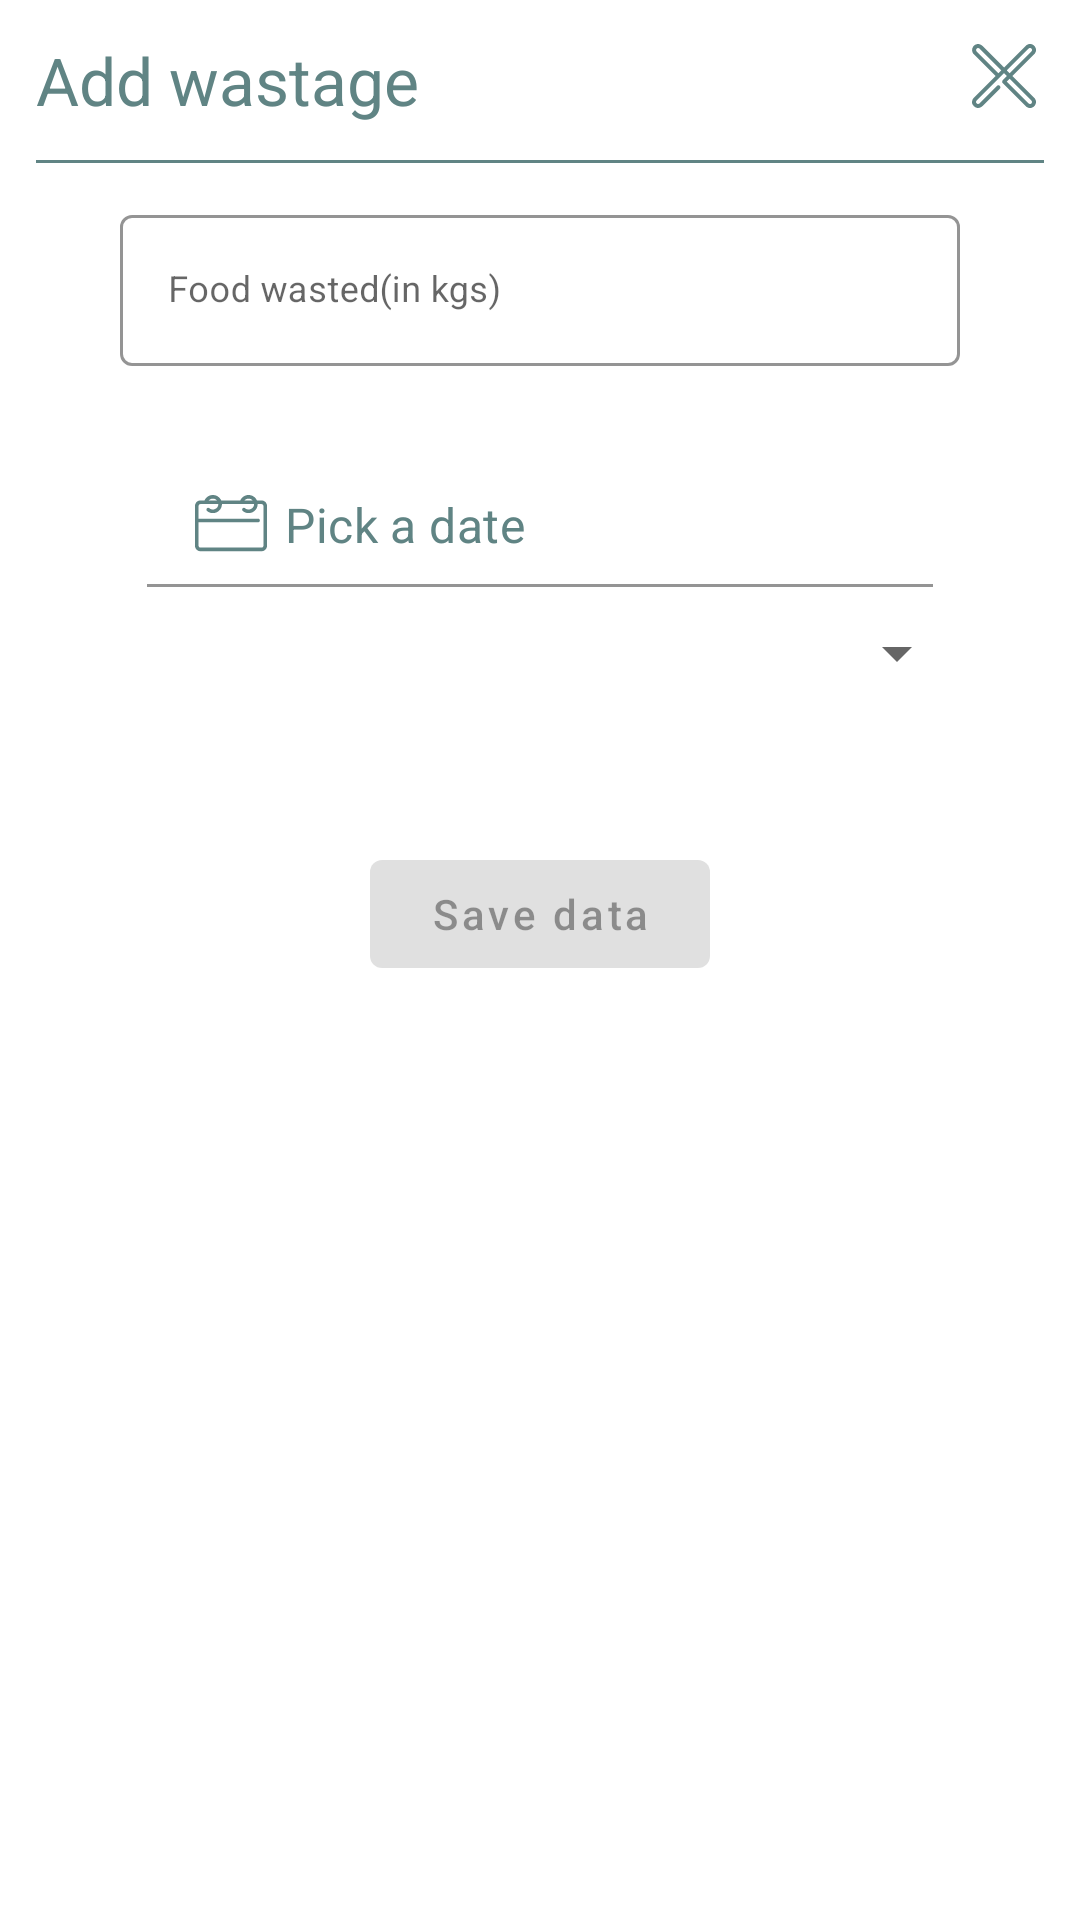

Locate icon controls on the screen. Image size 1080w x 1920h, boxes as bbox(x1, y1, x2, y2).
close: bbox(972, 44, 1036, 108)
